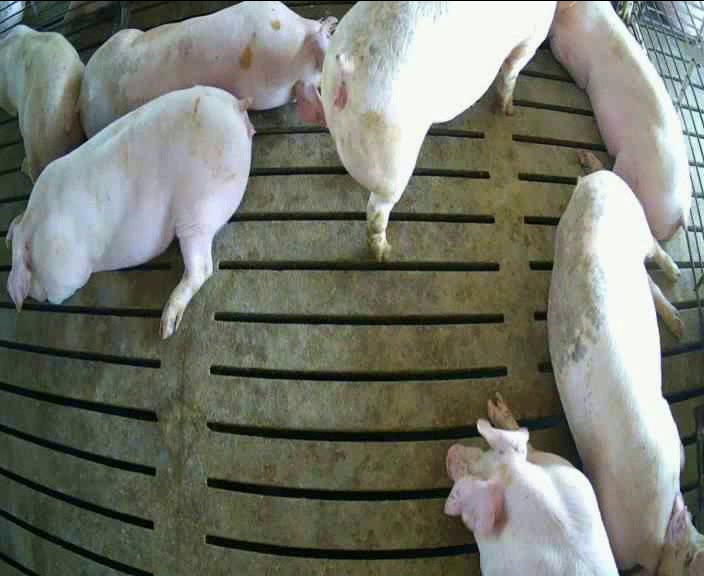pig: (7, 87, 252, 337), (321, 2, 554, 259), (548, 170, 684, 575), (80, 2, 335, 136), (444, 394, 617, 574)
